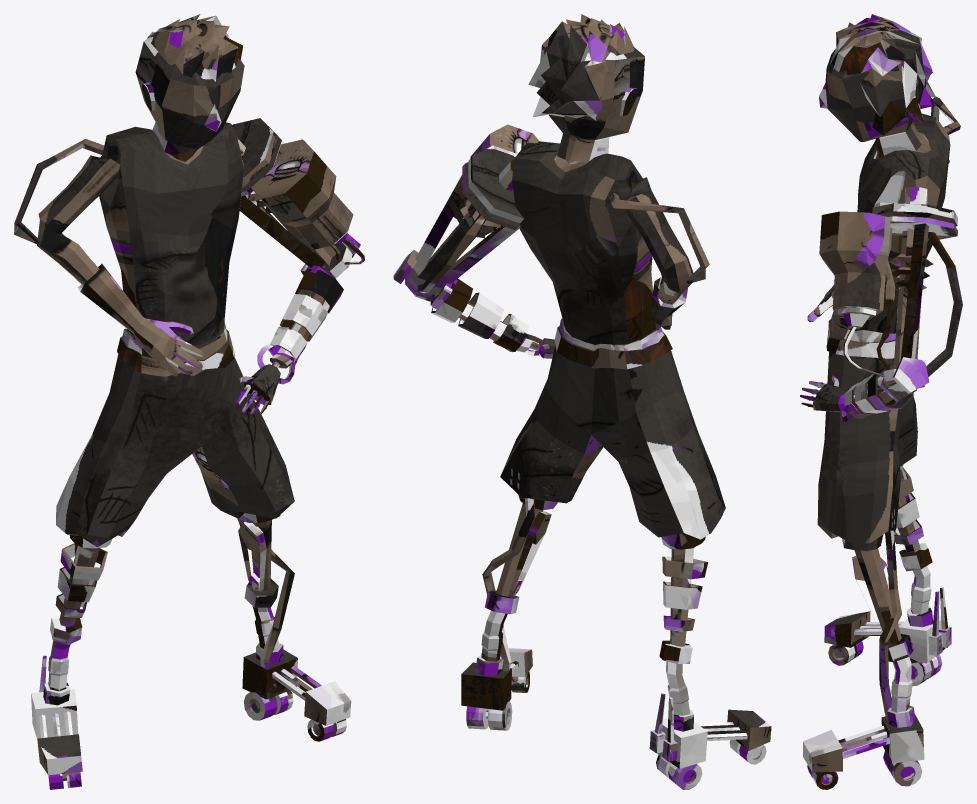
File: CyborgFINALAnimation_000023.obj
3 renders of one model, left to right at view 1: azimuth 30°, elevation 25°; view 2: azimuth 150°, elevation 25°; view 3: azimuth 270°, elevation 25°, orthographic.
Visible parts, largest first — view 1: CyborgMesh_Cube.002; view 2: CyborgMesh_Cube.002; view 3: CyborgMesh_Cube.002.
Part boxes in pixels (x1=…): CyborgMesh_Cube.002: x1=14, y1=14, x2=364, y2=789; CyborgMesh_Cube.002: x1=393, y1=14, x2=771, y2=789; CyborgMesh_Cube.002: x1=800, y1=14, x2=962, y2=789.
Bounding box in the file's own units: 4.77 × 9.6 × 1.98.
